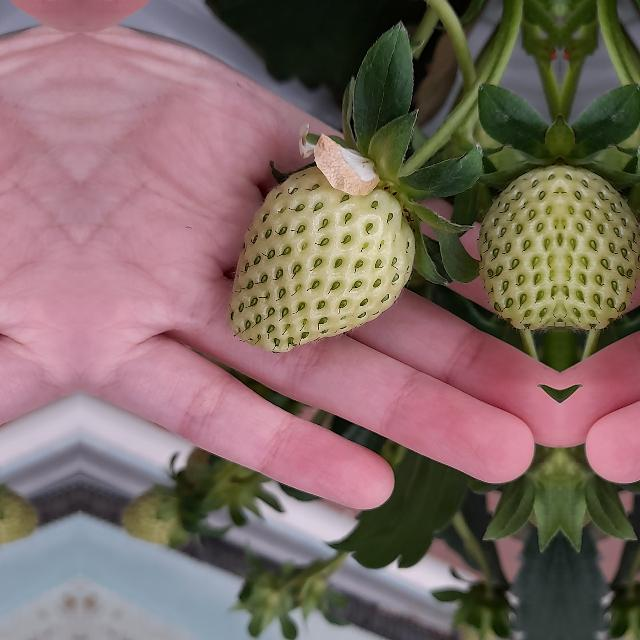Health_25: (227, 166, 415, 352), (479, 166, 559, 334), (561, 166, 640, 333)
